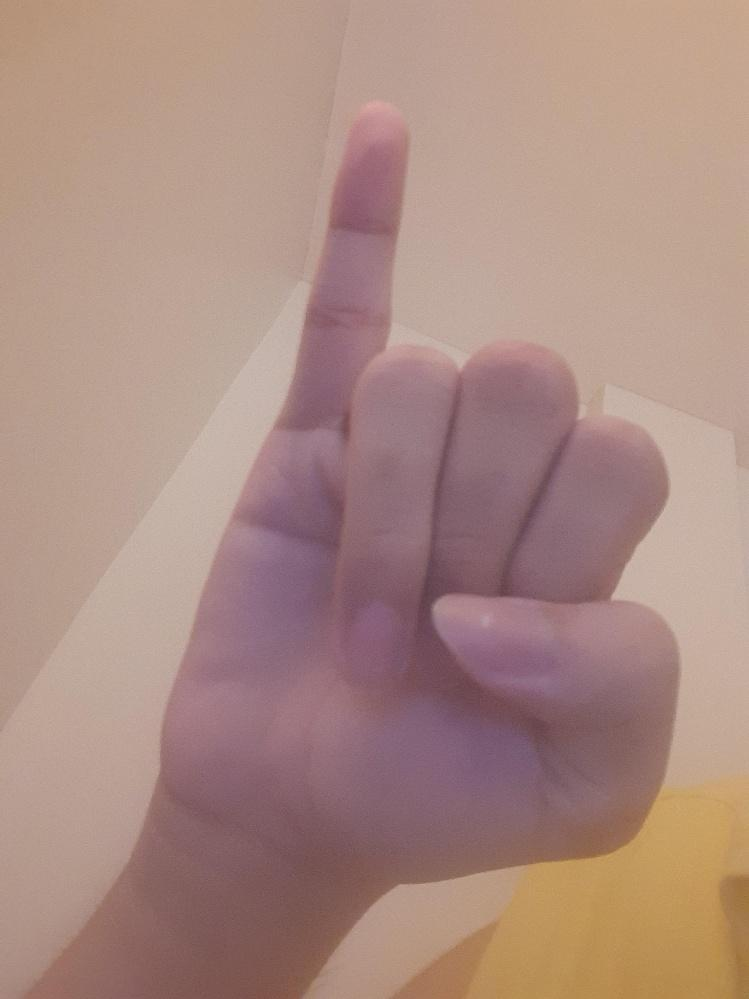i: (157, 98, 681, 887)
